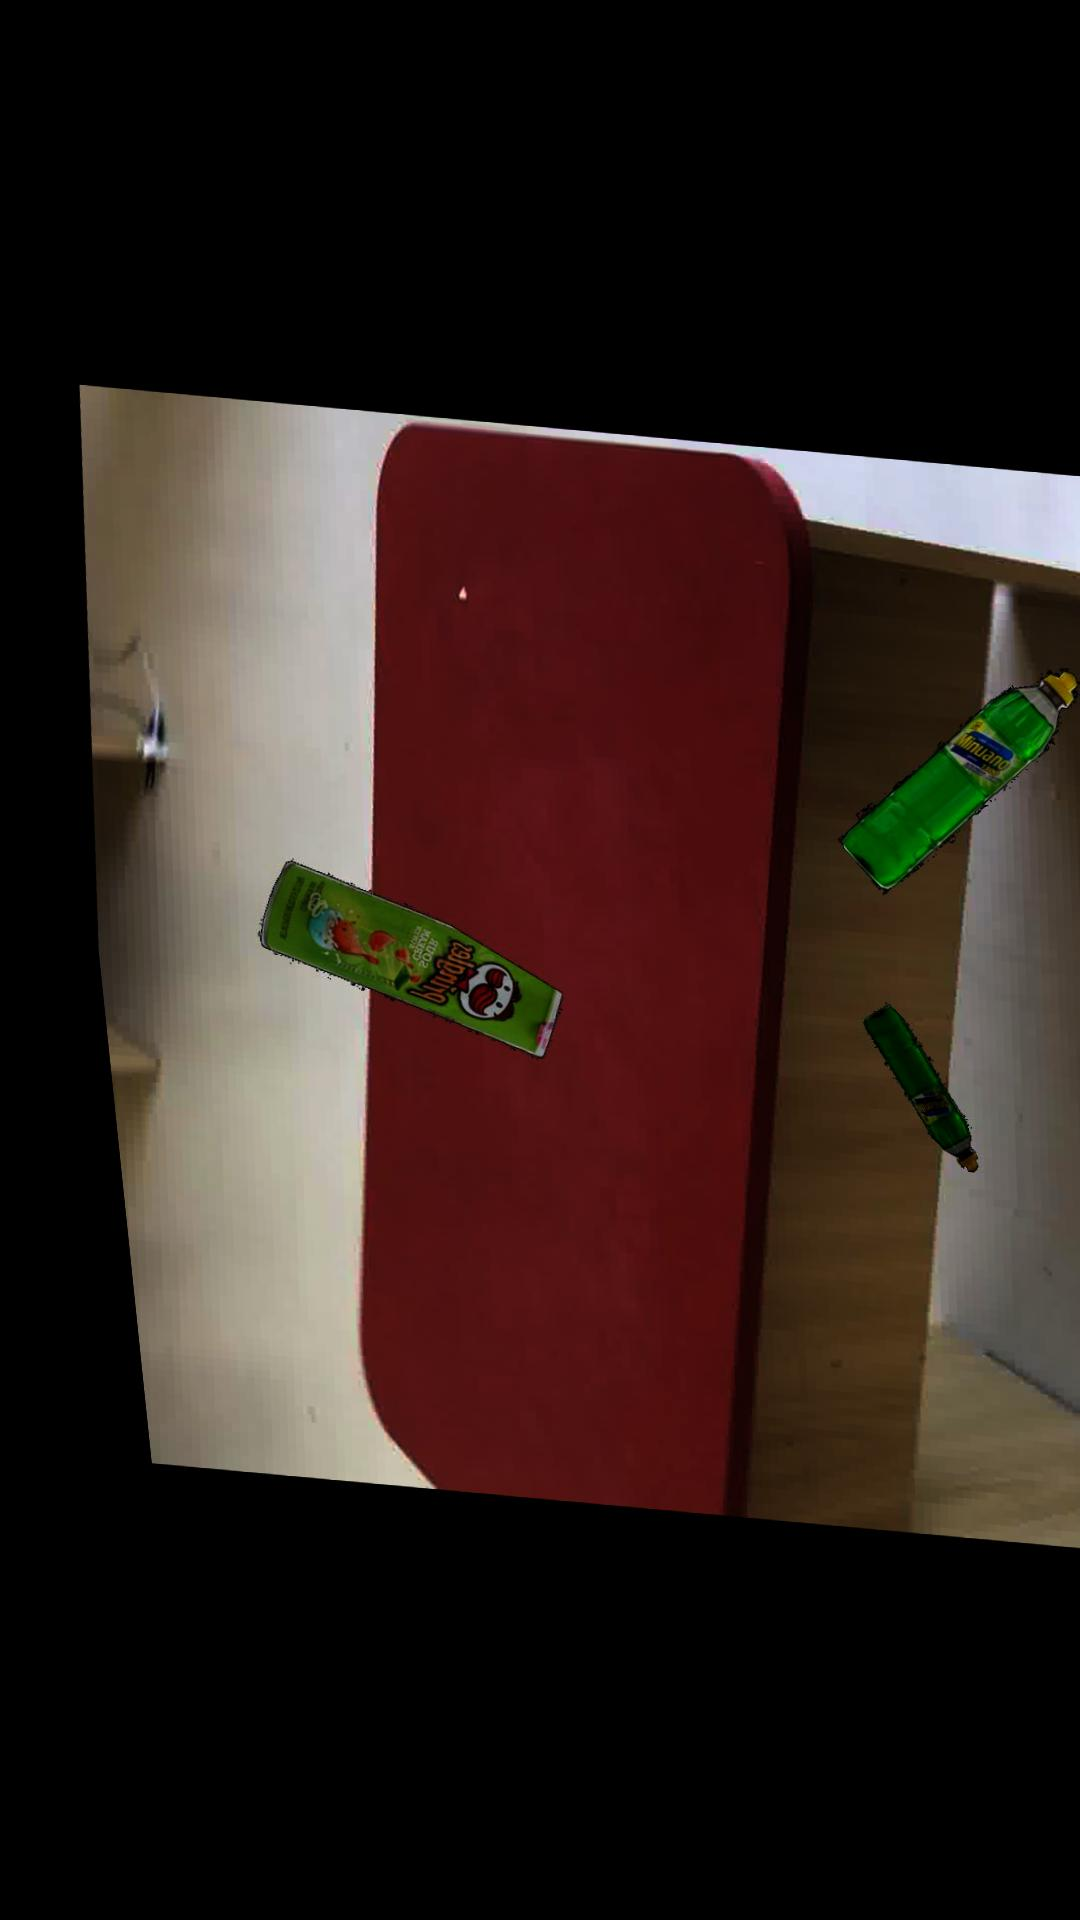cleaner: (820, 662, 1063, 889), (837, 1000, 949, 1167)
pringles: (236, 858, 538, 1055)
